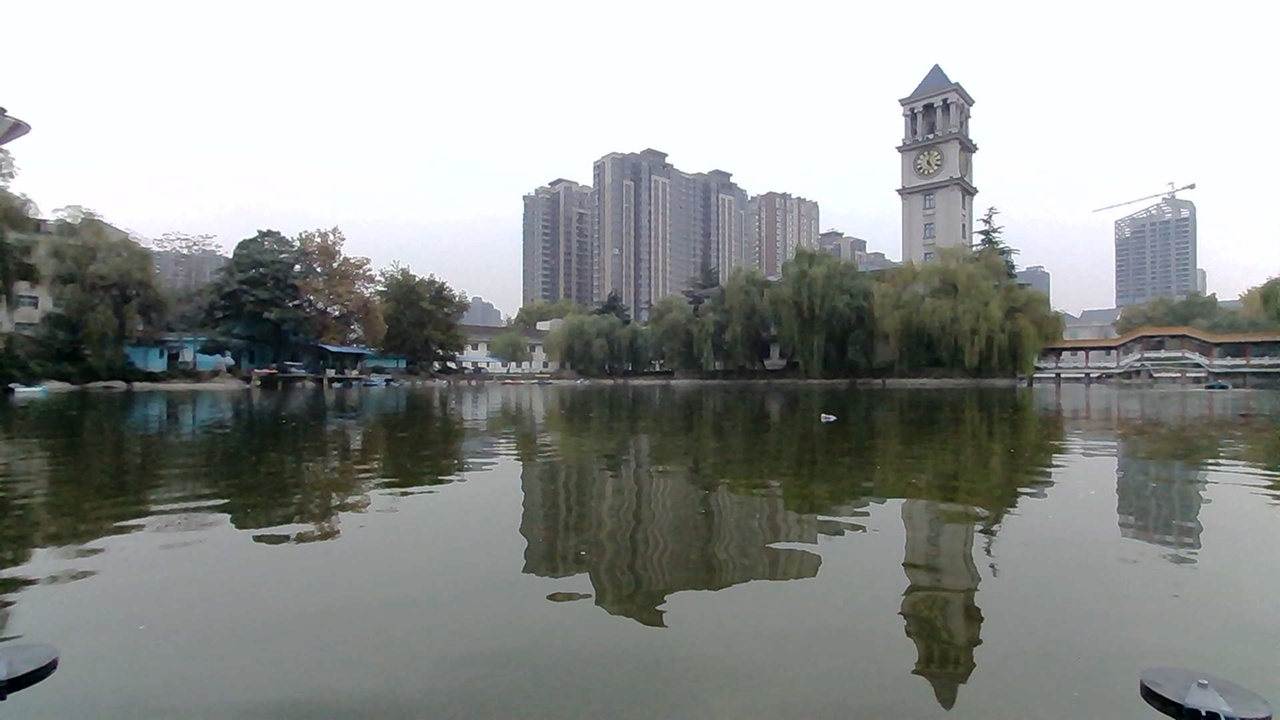bottle: (816, 400, 855, 430)
